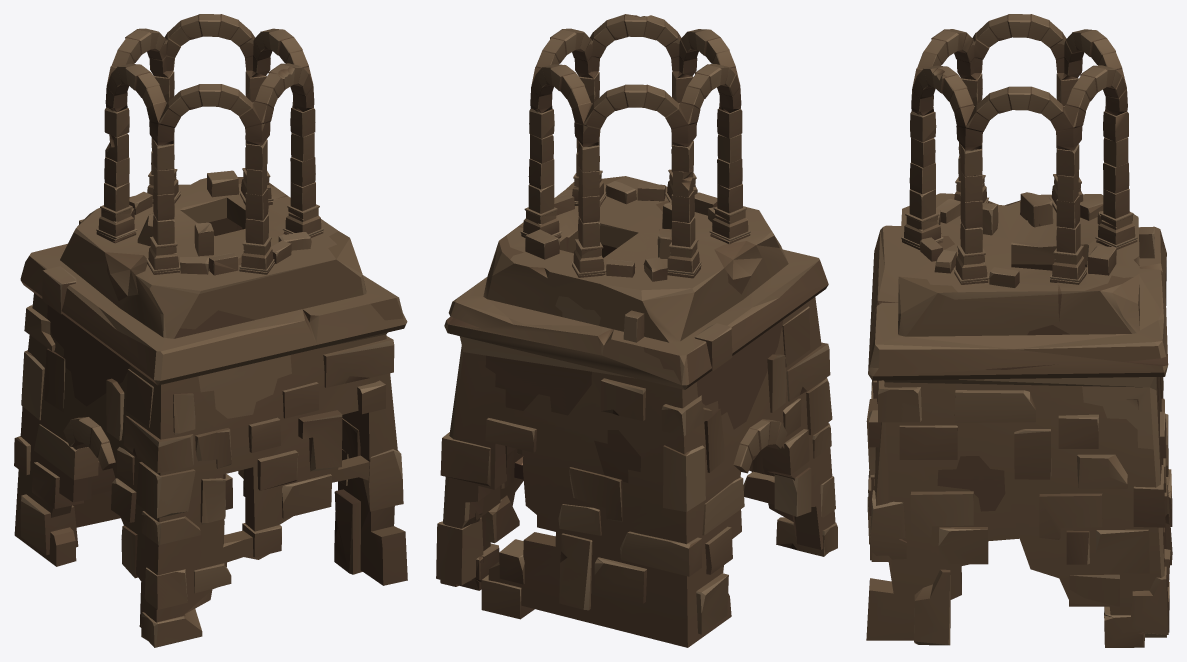
File: lighthouse_1.glb
The picture shows the model from 3 angles, left to right: view 1: azimuth 30°, elevation 25°; view 2: azimuth 150°, elevation 25°; view 3: azimuth 270°, elevation 25°; orthographic projection. The views are drawn at different scales.
Parts seen in each view (by area): view 1: Tower_A; view 2: Tower_A; view 3: Tower_A.
Boxes of the visible parts, bbox=[...] form: Tower_A: bbox=[14, 14, 407, 647]; Tower_A: bbox=[436, 14, 837, 647]; Tower_A: bbox=[866, 14, 1172, 647].
Bounding box in the file's own units: 3.22 × 6.21 × 3.2.
1 material, 1 textured.
